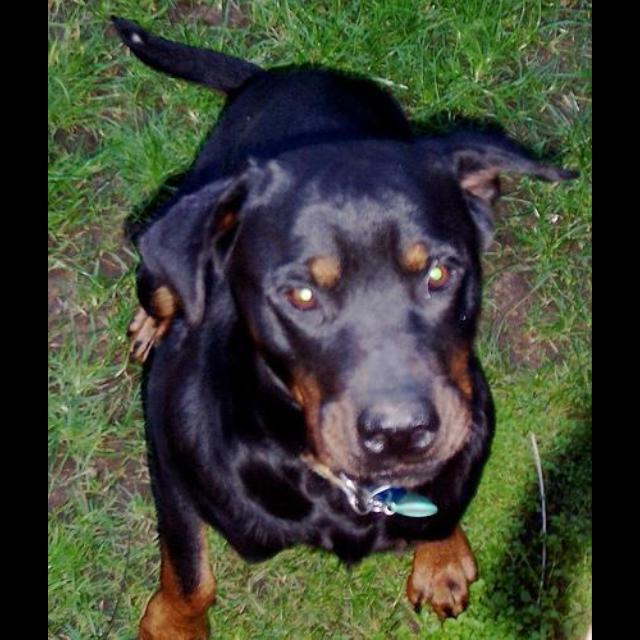rottweiler: (110, 15, 581, 640)
